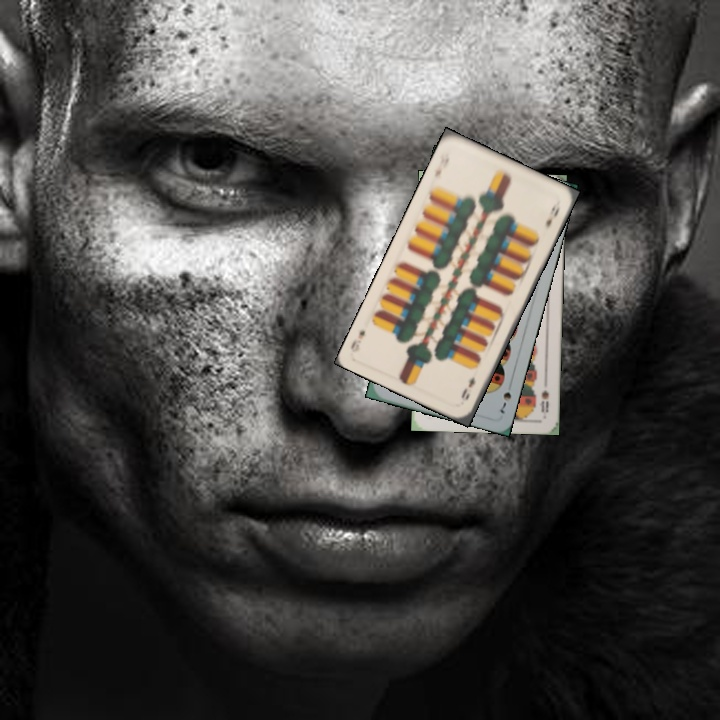E9: (430, 149, 452, 180), (457, 372, 478, 403)
S7: (495, 377, 515, 416)
S8: (536, 386, 551, 414)
